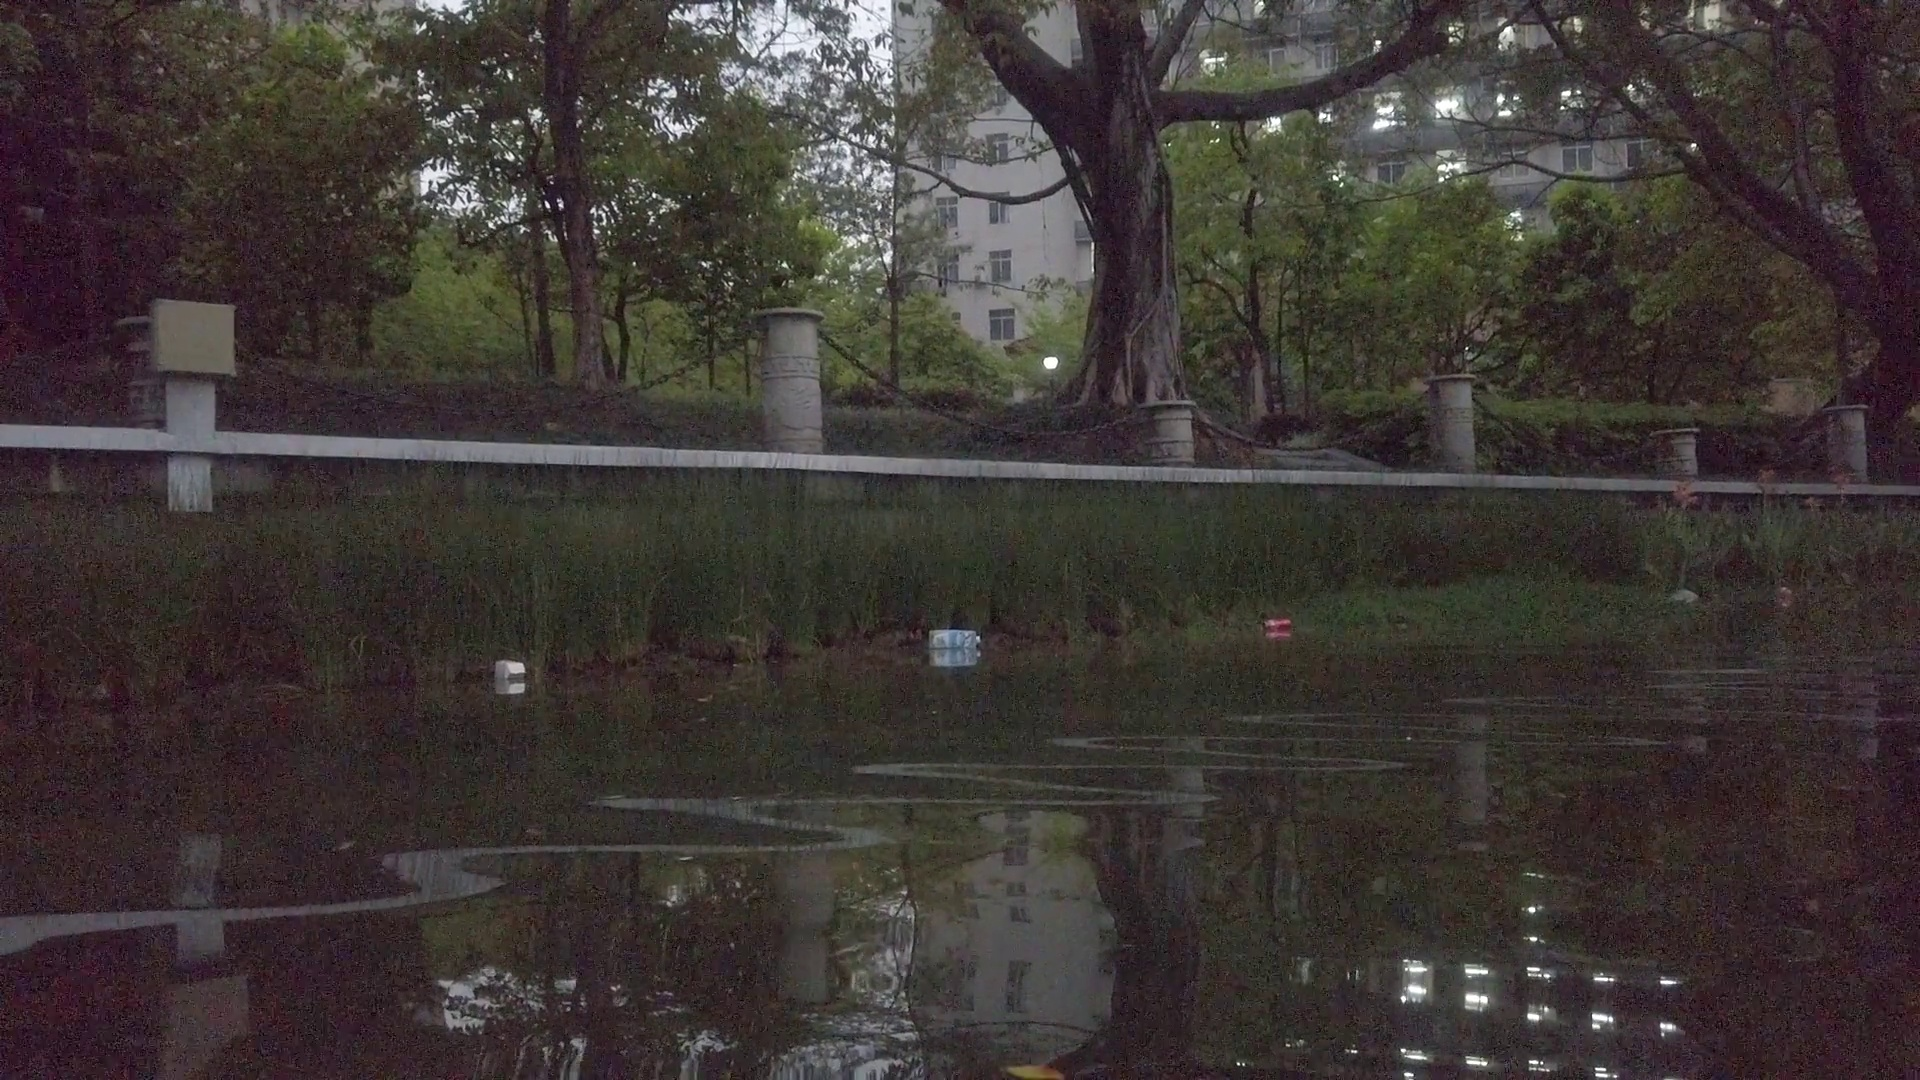bottle: (1669, 588, 1704, 615), (1265, 618, 1295, 633), (1778, 585, 1791, 607)
carton: (928, 629, 982, 651), (497, 659, 524, 683)
